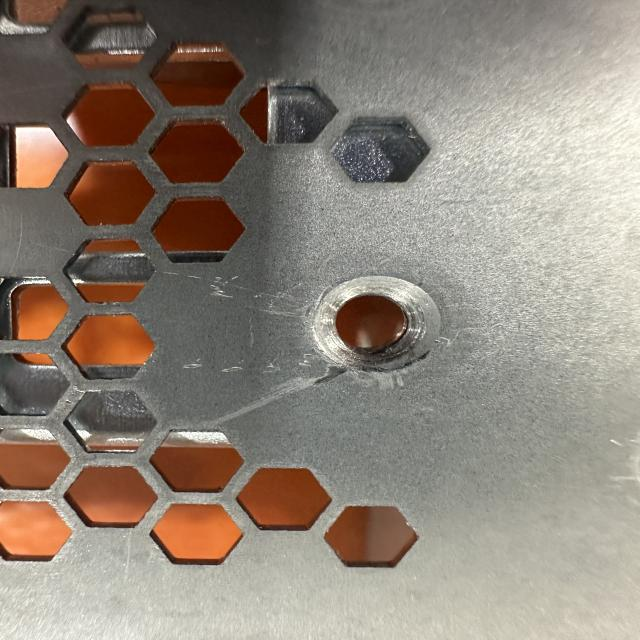Missing screw: (287, 260, 464, 386)
